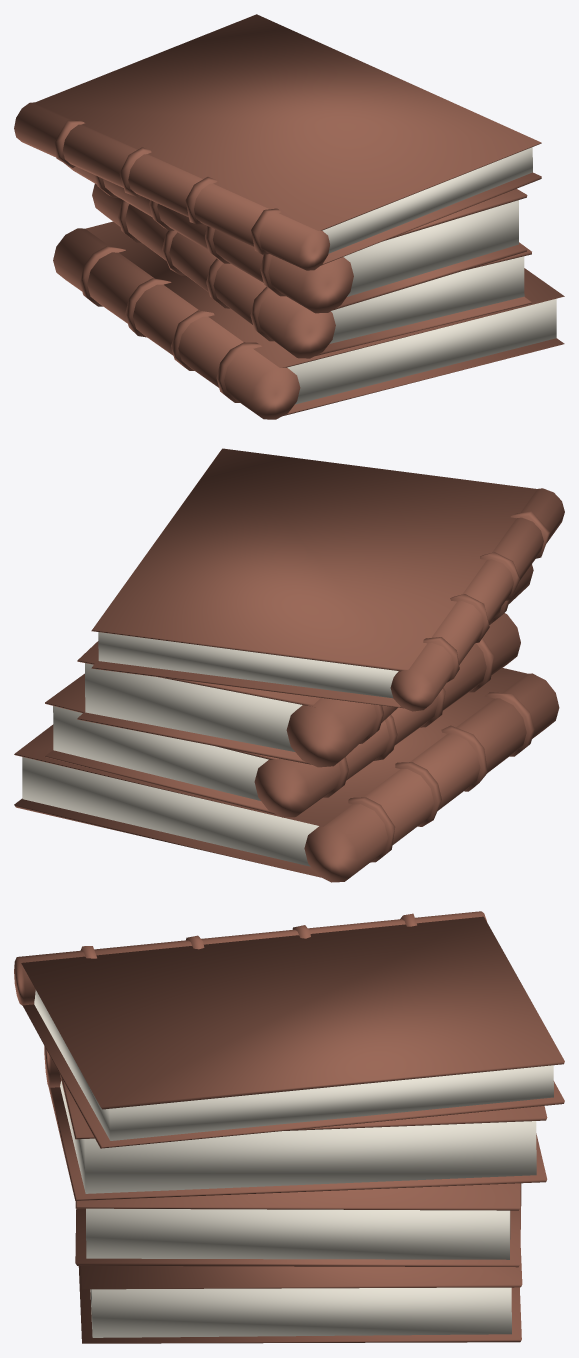
The model's file is books_stack.glb.
3 renders of one model, top to bottom at view 1: azimuth 30°, elevation 25°; view 2: azimuth 150°, elevation 25°; view 3: azimuth 270°, elevation 25°, orthographic. The views are drawn at different scales.
Parts seen in each view (by area): view 1: books_stack; view 2: books_stack; view 3: books_stack.
Part boxes in pixels (x1,y1,x2,y2): books_stack: (14, 14, 564, 419); books_stack: (14, 448, 564, 882); books_stack: (14, 911, 564, 1343).
Bounding box in the file's own units: 0.2771 × 0.1461 × 0.3058.
